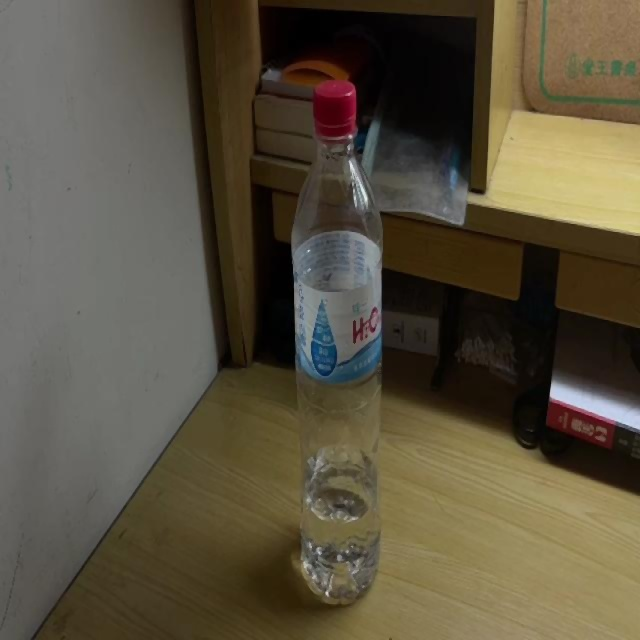Water: (292, 83, 384, 604)
